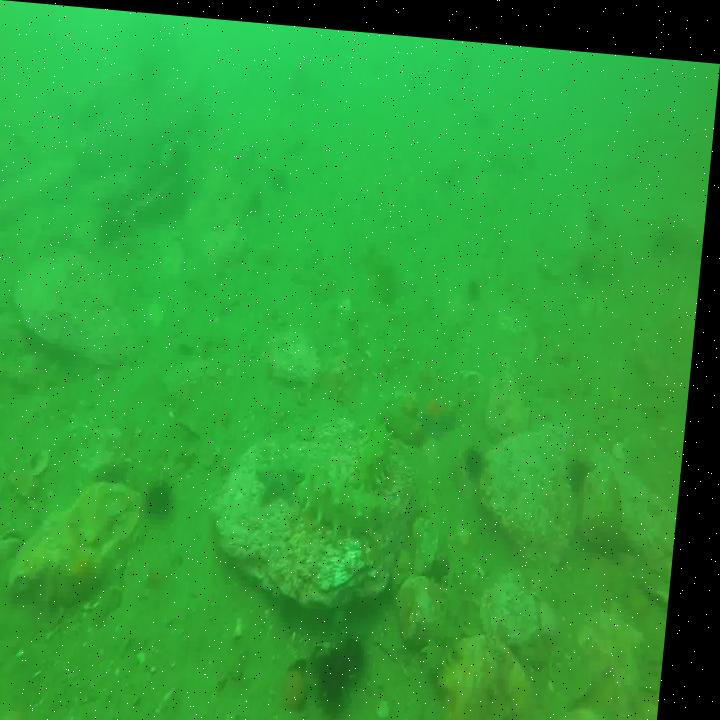echinus: (327, 641, 361, 705), (349, 628, 386, 679), (157, 472, 184, 510), (468, 437, 494, 475)
holothurian: (311, 462, 408, 533), (436, 546, 487, 674), (363, 412, 403, 488)
starfish: (264, 444, 318, 501), (422, 381, 468, 432)
